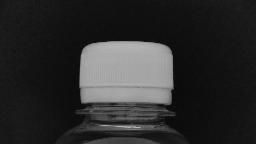Good Cap: (68, 37, 182, 124)
